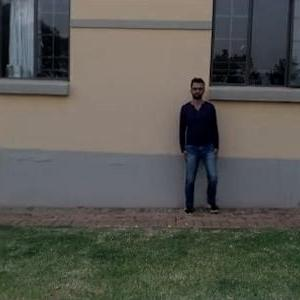follow: (180, 75, 221, 214)
